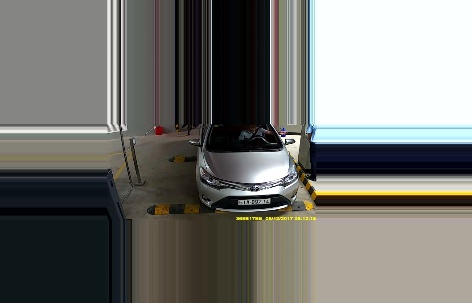plate: (237, 197, 271, 206)
